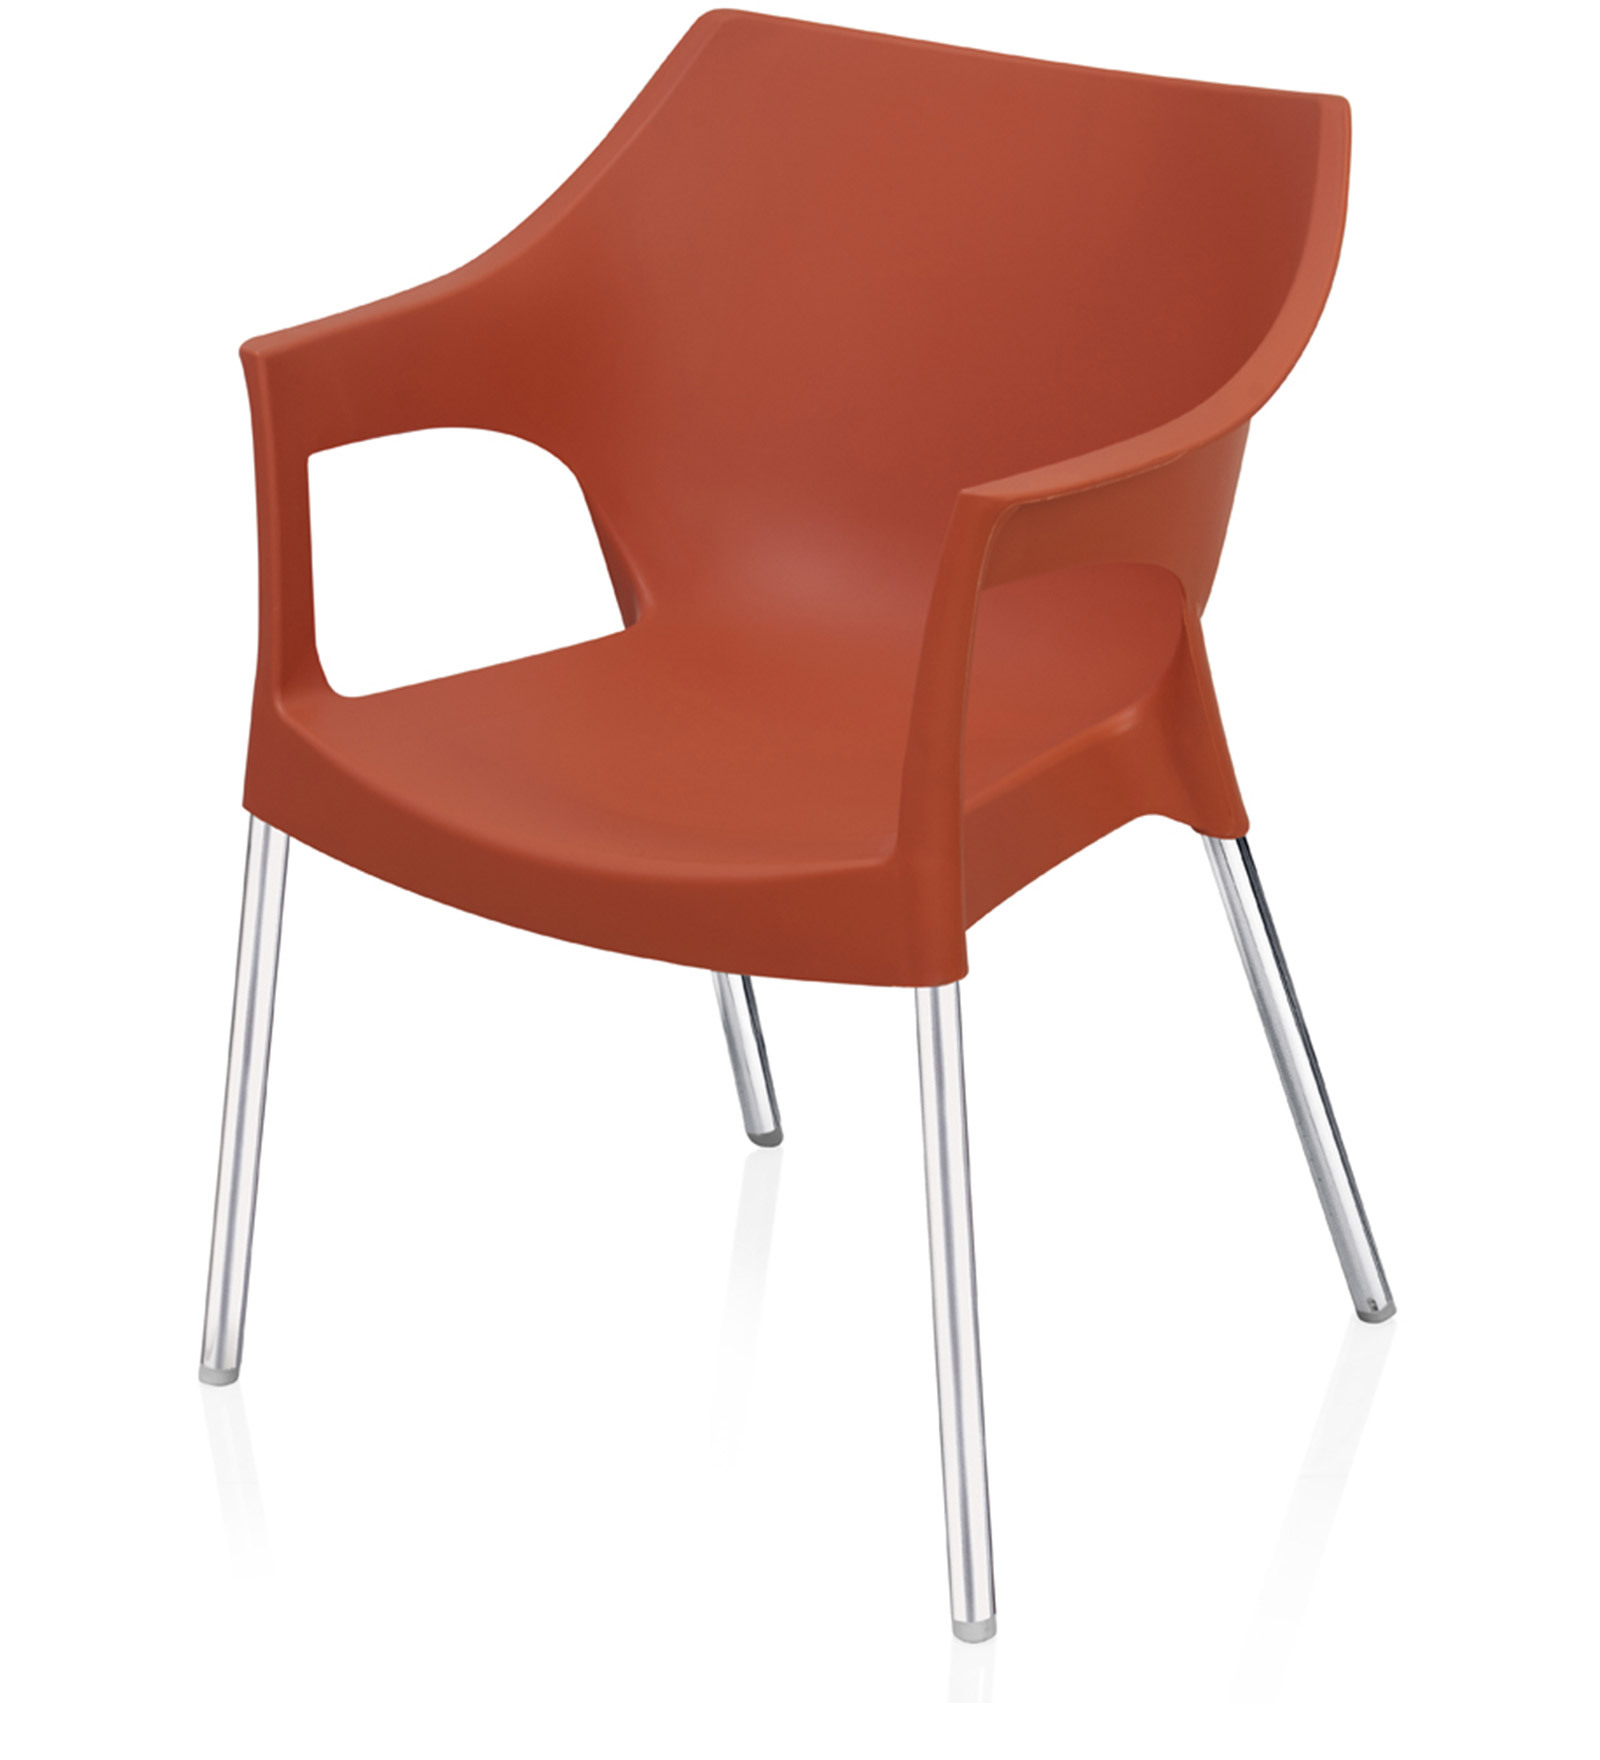Novella Series - 10 Chair (Set of 2) in Rust Colour by Nilkamal: (205, 12, 1398, 1643)
